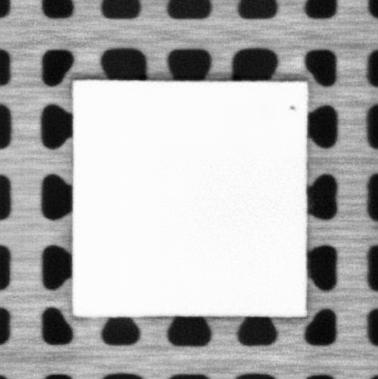DIE_INK: (288, 102, 297, 112)
